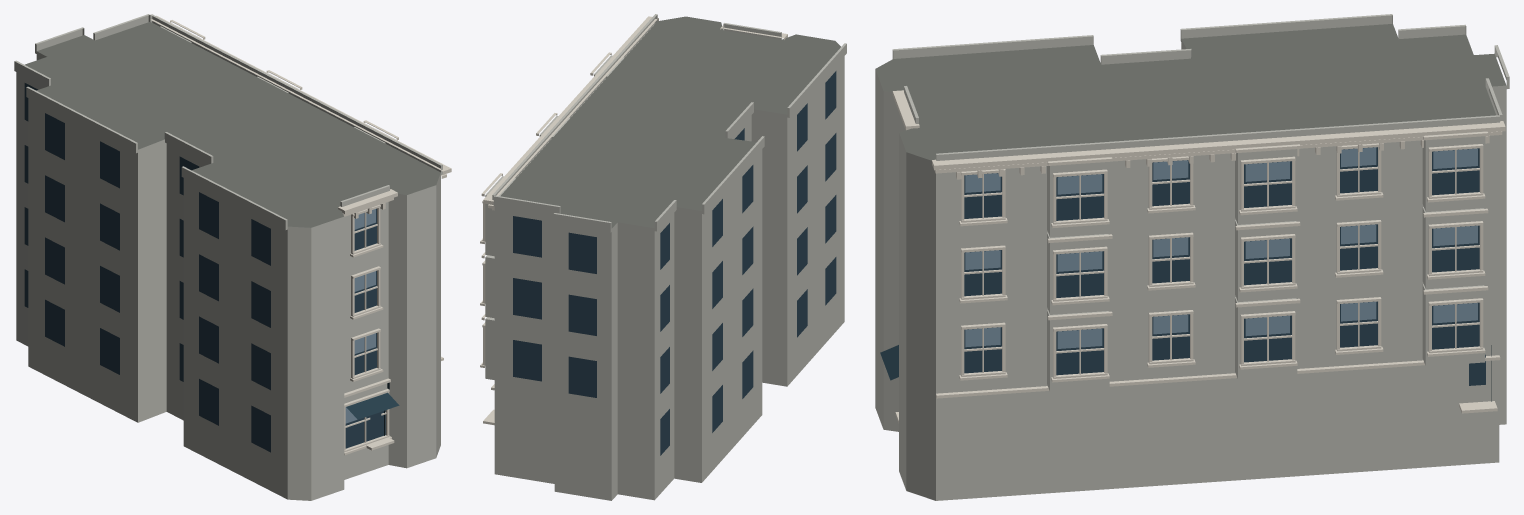
The picture shows the model from 3 angles, left to right: view 1: azimuth 30°, elevation 25°; view 2: azimuth 150°, elevation 25°; view 3: azimuth 270°, elevation 25°; orthographic projection. The views are drawn at different scales.
Parts seen in each view (by area): view 1: Footprint 0 / surface 2, Footprint 0 / surface 1, Inset glazing, Facade bay volumes, Cornices and window frames, Sky reflection panels, Storefronts and doors; view 2: Footprint 0 / surface 2, Footprint 0 / surface 1, Inset glazing, Facade bay volumes, Cornices and window frames; view 3: Footprint 0 / surface 2, Footprint 0 / surface 1, Cornices and window frames, Facade bay volumes, Inset glazing, Sky reflection panels.
Boxes of the visible parts, left/top/right/bottom form: Footprint 0 / surface 2: left=16, top=51, right=440, bottom=500; Footprint 0 / surface 1: left=25, top=22, right=440, bottom=227; Inset glazing: left=24, top=83, right=385, bottom=452; Facade bay volumes: left=14, top=14, right=442, bottom=229; Cornices and window frames: left=150, top=15, right=451, bottom=455; Sky reflection panels: left=345, top=209, right=375, bottom=423; Storefronts and doors: left=346, top=382, right=399, bottom=435; Footprint 0 / surface 2: left=494, top=56, right=844, bottom=500; Footprint 0 / surface 1: left=500, top=16, right=840, bottom=228; Inset glazing: left=513, top=71, right=836, bottom=455; Facade bay volumes: left=485, top=14, right=846, bottom=379; Cornices and window frames: left=480, top=16, right=787, bottom=425; Footprint 0 / surface 2: left=875, top=39, right=1506, bottom=500; Footprint 0 / surface 1: left=875, top=24, right=1506, bottom=160; Cornices and window frames: left=892, top=90, right=1505, bottom=423; Facade bay volumes: left=892, top=14, right=1509, bottom=391; Inset glazing: left=964, top=147, right=1485, bottom=385; Sky reflection panels: left=965, top=147, right=1477, bottom=348.
Size of the model in its own units: 12.89 by 14.32 by 23.71.
